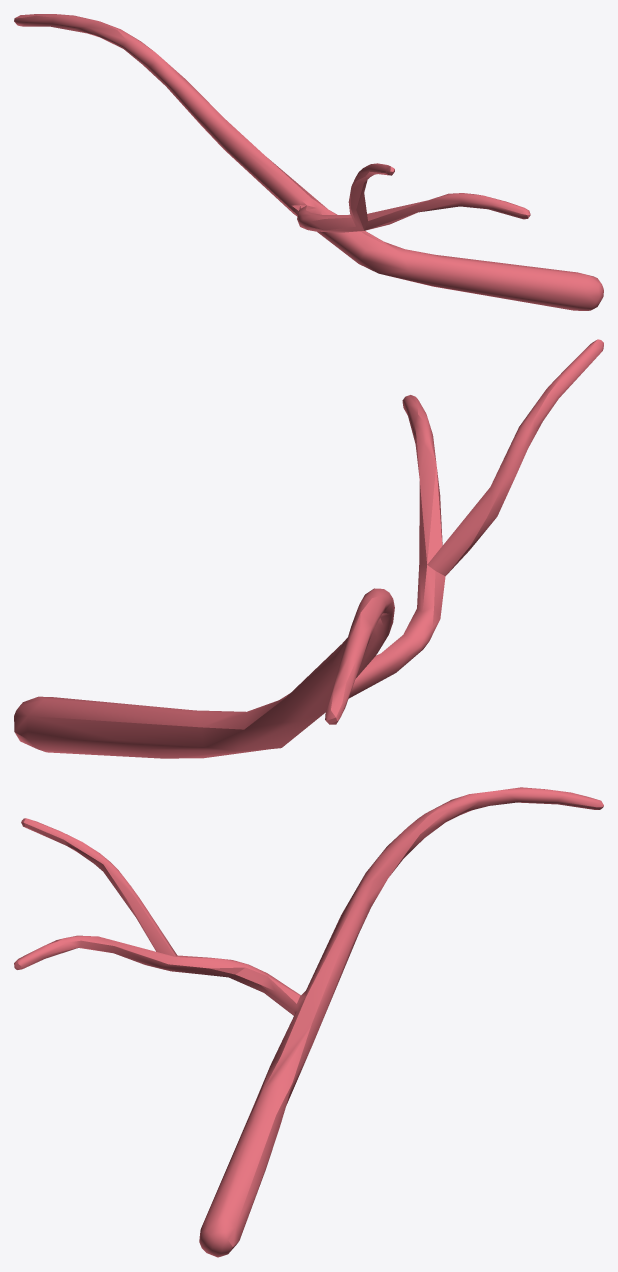
The model's file is fma70449_fj4548.glb.
3 views of the same model, one above another, from view 1: azimuth 30°, elevation 25°; view 2: azimuth 150°, elevation 25°; view 3: azimuth 270°, elevation 25° (orthographic). The views are drawn at different scales.
Parts seen in each view (by area): view 1: FMA70449_FJ4548; view 2: FMA70449_FJ4548; view 3: FMA70449_FJ4548.
Part boxes in pixels (<box>): FMA70449_FJ4548: <box>14,14,603,310</box>; FMA70449_FJ4548: <box>14,339,603,758</box>; FMA70449_FJ4548: <box>14,787,603,1257</box>.
Bounding box in the file's own units: 0.0229 × 0.0153 × 0.0281.
